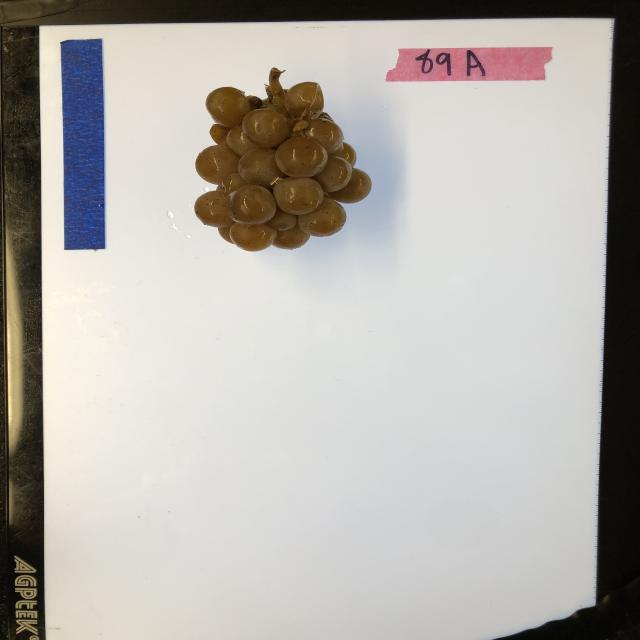grape_cluster: (187, 65, 375, 254)
index: (384, 45, 556, 83)
measure_label: (59, 38, 107, 252)
